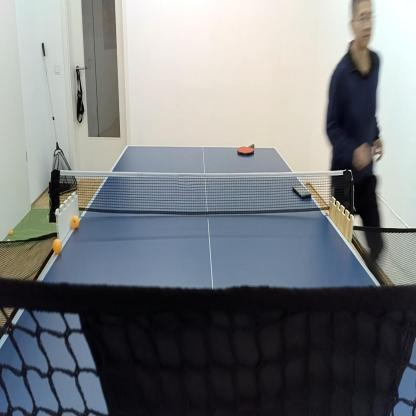Ball: (52, 238, 62, 253), (71, 215, 79, 228), (6, 237, 12, 244), (9, 227, 14, 234)
